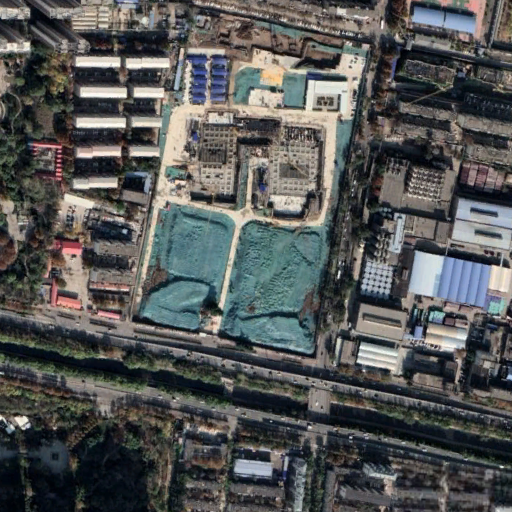cw: (135, 198, 330, 362), (230, 55, 307, 111)
